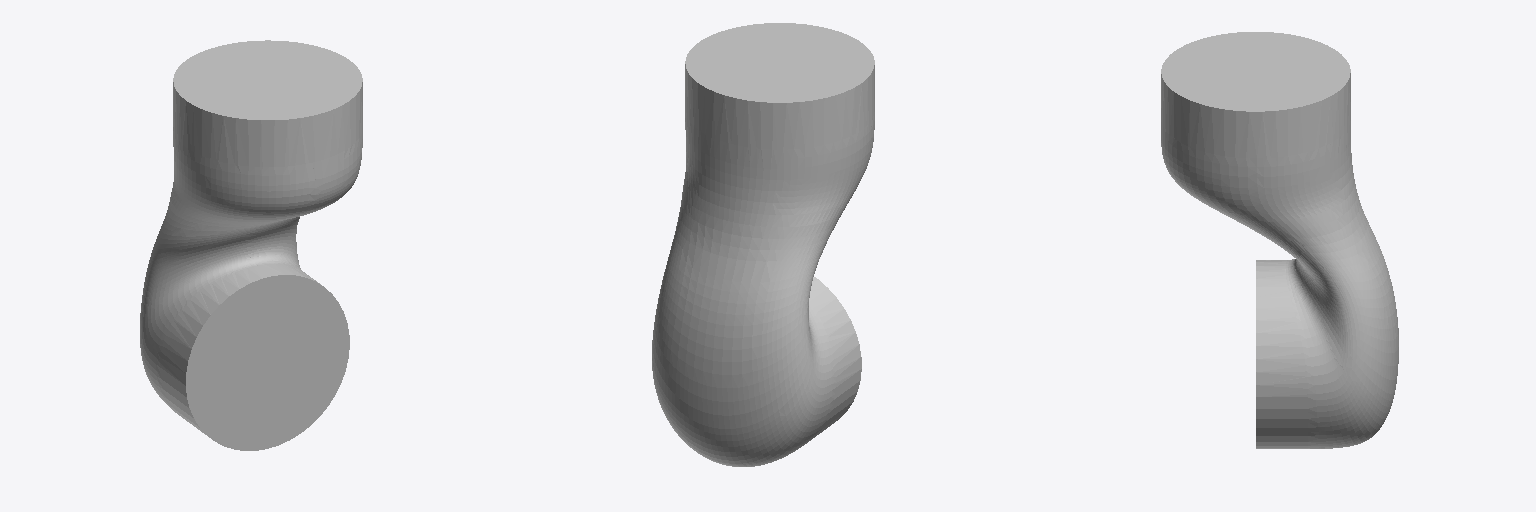
File: processed_wrist_spherical_2.obj
3 renders of one model, left to right at view 1: azimuth 30°, elevation 25°; view 2: azimuth 150°, elevation 25°; view 3: azimuth 270°, elevation 25°, orthographic.
Visible parts, largest first — view 1: wrist_spherical_2; view 2: wrist_spherical_2; view 3: wrist_spherical_2.
Boxes of the visible parts, box(x1,y1,x2,y2) form: wrist_spherical_2: box(140, 40, 362, 450); wrist_spherical_2: box(652, 23, 874, 466); wrist_spherical_2: box(1161, 32, 1398, 448).
Bounding box in the file's own units: 0.063 × 0.1351 × 0.0791.